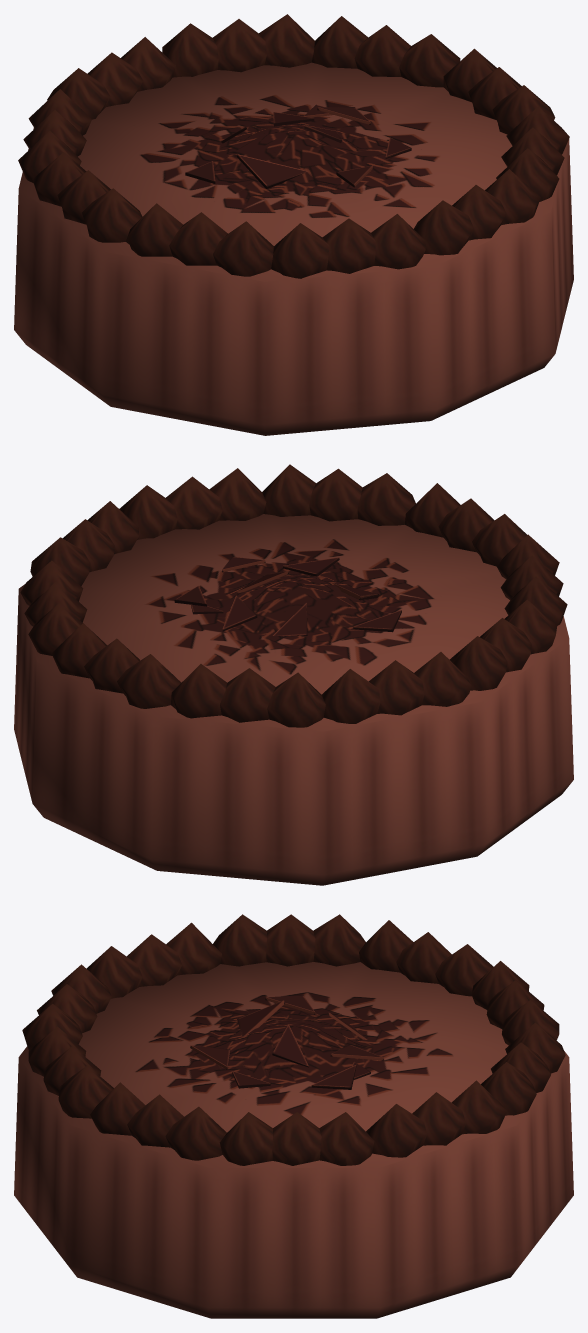
Rendered from Chocolate_Whole.fbx.
3 views of the same model, one above another, from view 1: azimuth 30°, elevation 25°; view 2: azimuth 150°, elevation 25°; view 3: azimuth 270°, elevation 25° (orthographic). The views are drawn at different scales.
Parts seen in each view (by area): view 1: Chocolate_Cake_Whole; view 2: Chocolate_Cake_Whole; view 3: Chocolate_Cake_Whole.
Part boxes in pixels (x1,y1,x2,y2): Chocolate_Cake_Whole: (14, 14, 573, 435); Chocolate_Cake_Whole: (14, 464, 573, 885); Chocolate_Cake_Whole: (14, 914, 573, 1318).
Bounding box in the file's own units: 78.87 × 32.37 × 82.93.
